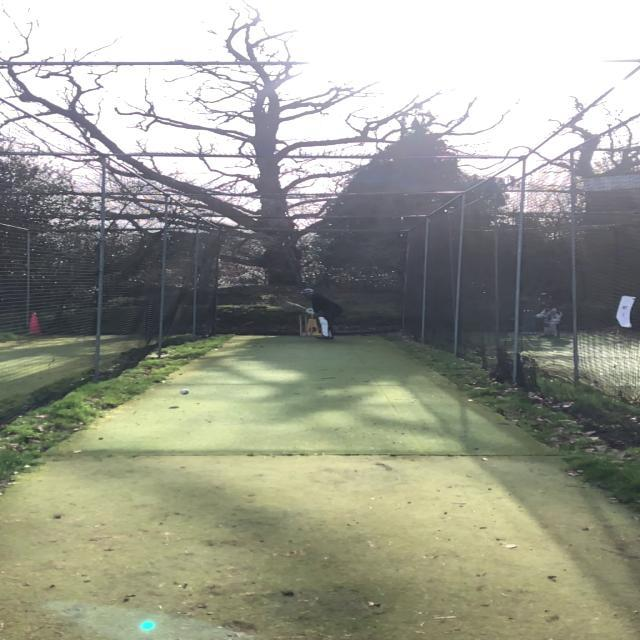ball: (179, 388, 190, 396)
